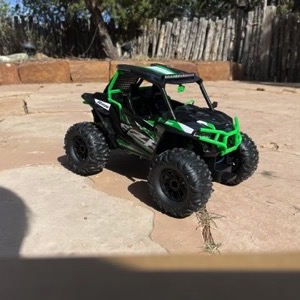polaris: (65, 62, 260, 219)
